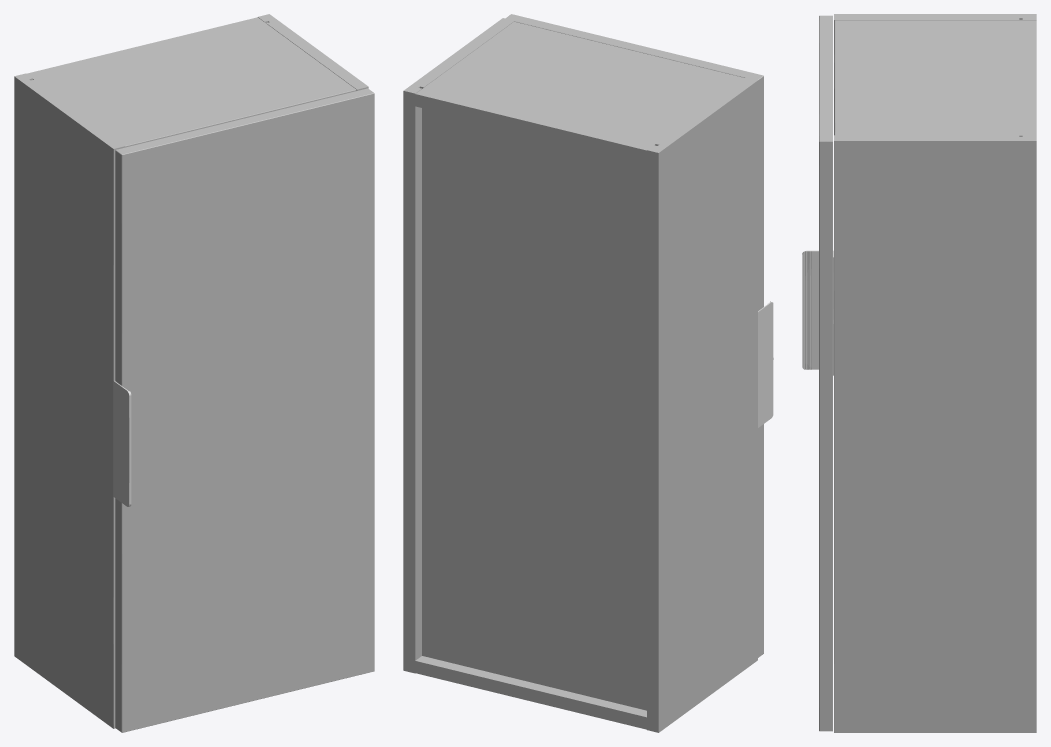
Rendered from AEC_43443.glb.
The picture shows the model from 3 angles, left to right: view 1: azimuth 30°, elevation 25°; view 2: azimuth 150°, elevation 25°; view 3: azimuth 270°, elevation 25°; orthographic projection. The views are drawn at different scales.
Parts seen in each view (by area): view 1: 0; view 2: 0; view 3: 0.
Part boxes in pixels (x1,y1,x2,y2): 0: (14,14,374,732); 0: (403,14,773,732); 0: (802,14,1036,732).
Size of the model in its own units: 0.3455 by 0.75 by 0.2694.
1 material, 1 textured.
